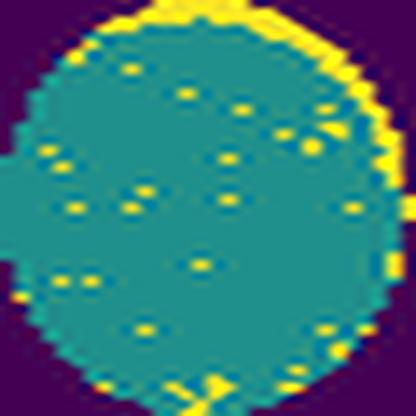Edge-Loc: (88, 0, 407, 186)
